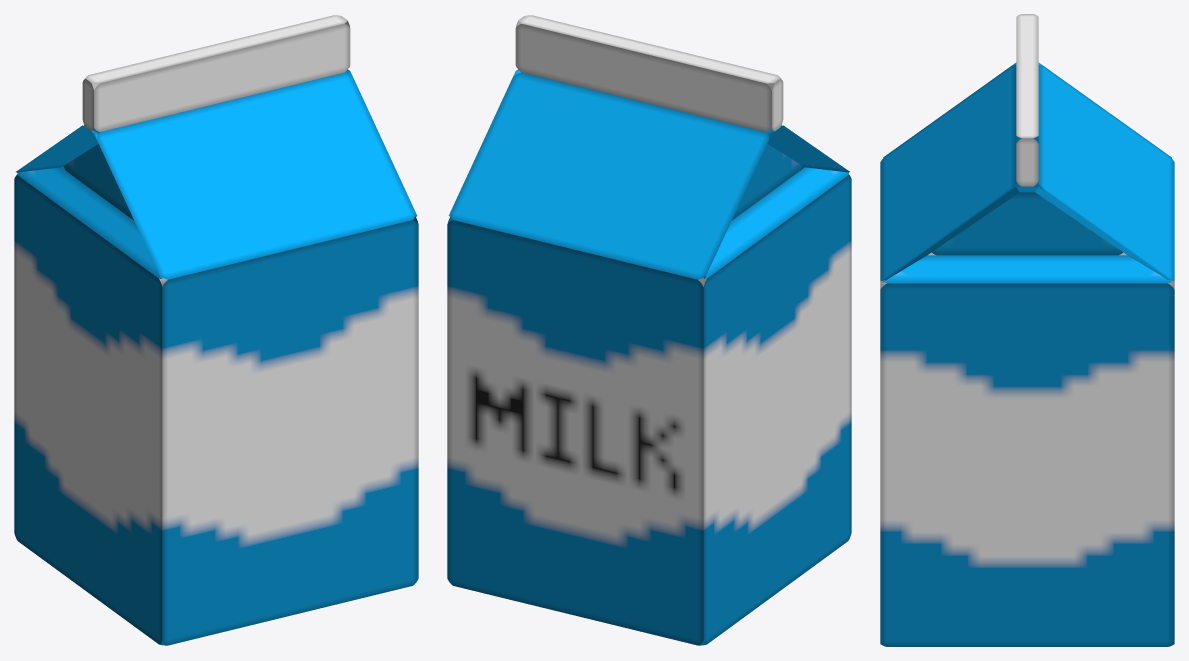
Rendered from milk.fbx.
3 renders of one model, left to right at view 1: azimuth 30°, elevation 25°; view 2: azimuth 150°, elevation 25°; view 3: azimuth 270°, elevation 25°, orthographic.
Parts seen in each view (by area): view 1: cuboid; view 2: cuboid; view 3: cuboid.
Part boxes in pixels (x1,y1,x2,y2): cuboid: [14, 15, 418, 645]; cuboid: [447, 15, 851, 645]; cuboid: [880, 14, 1174, 646].
Bounding box in the file's own units: 68.75 × 131 × 68.75.
1 material, 1 textured.
